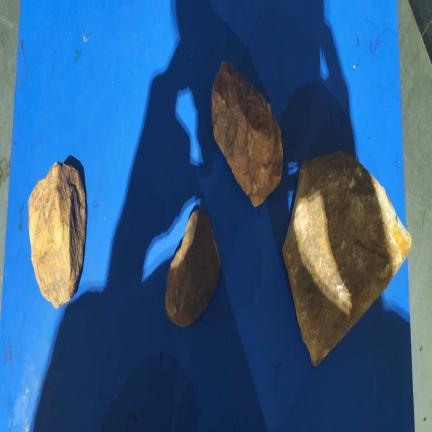Rocks: (283, 152, 411, 365), (212, 62, 282, 206), (29, 163, 86, 308), (166, 210, 220, 327)
